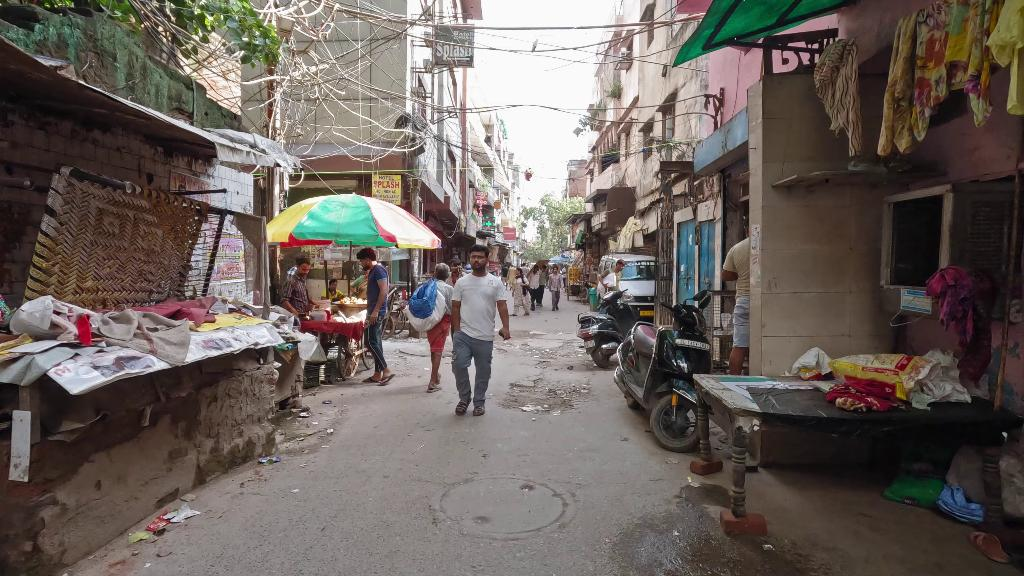garbage: (407, 277, 439, 318), (162, 500, 201, 524)
